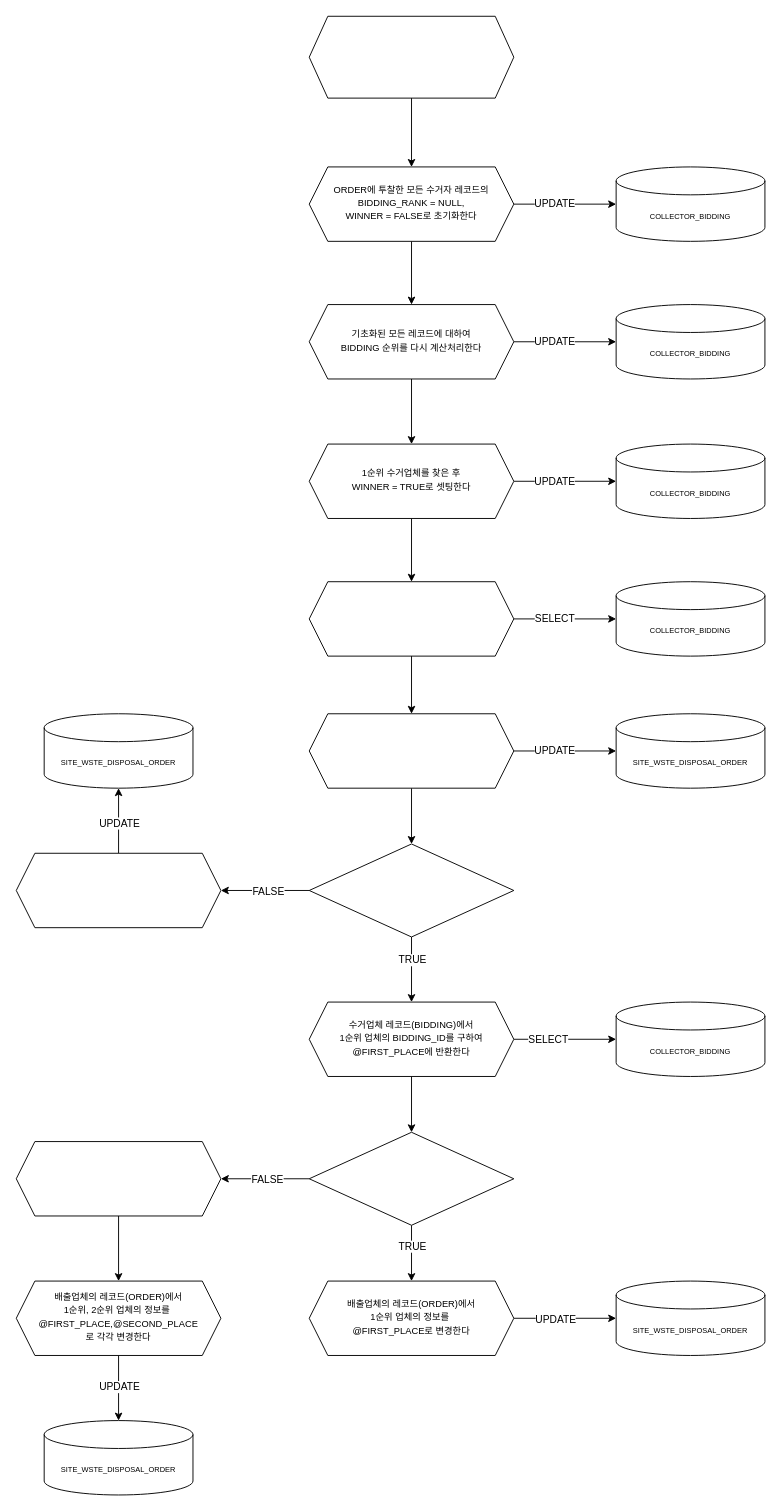
This 781x1511 diagram has some shape labels left out. The box of each missing label's shape, as (x1, y1, x2, y2) in pixels:
sp_req_current_time 현재 시간을 구한후 @REG_DT에 반환한다.: (308, 15, 514, 98)
배출업체의 레코드(ORDER)에서 1순위, 2순위 업체의 정보를 모두 NULL 처리한다: (15, 852, 221, 928)
배출자의 입찰 레코드의 현재 입찰자수를 @BIDDERS로 변경한다: (308, 713, 514, 788)
수거업체 레코드(BIDDING)에서 2순위 업체의 BIDDING_ID를 구하여 @SECOND_PLACE에 반환한다: (15, 1141, 221, 1216)
입찰한 모든 수거업체의 수를 계산하여 @BIDDERS에 반환한다: (308, 581, 514, 656)
투찰자가 존재하는가? @BIDDERS > 0: (308, 843, 514, 937)
투찰자의 수가 1인가? @BIDDERS = 1: (308, 1131, 514, 1225)
